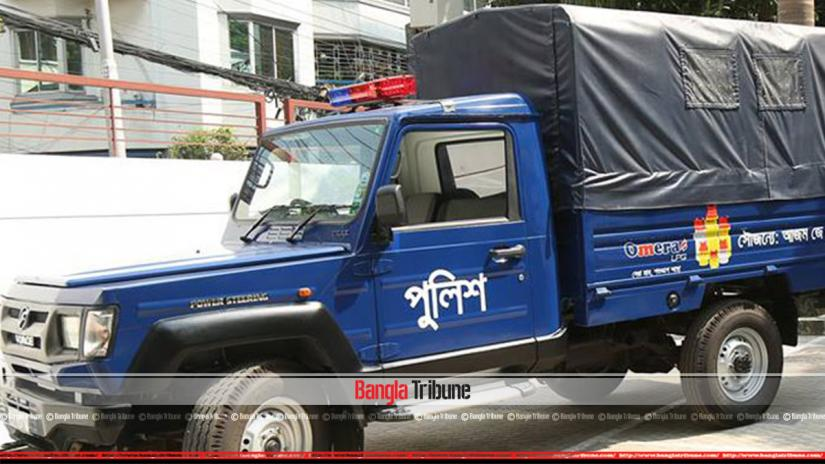policecar: (1, 3, 825, 459)
